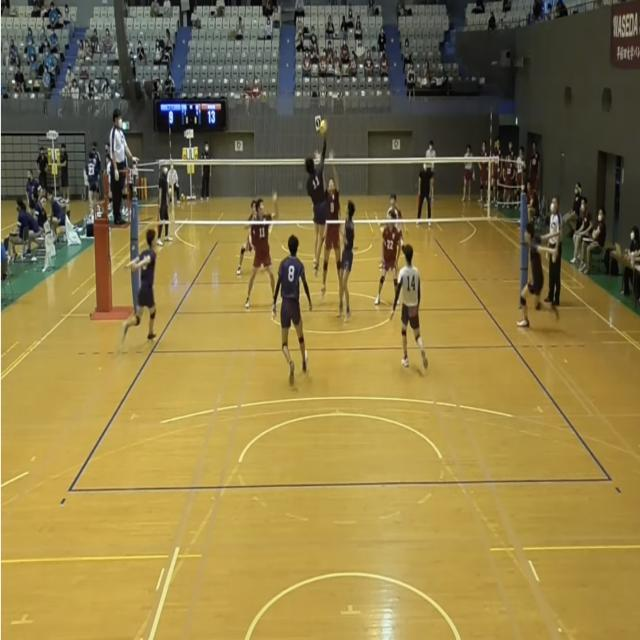spike: (301, 114, 332, 279)
